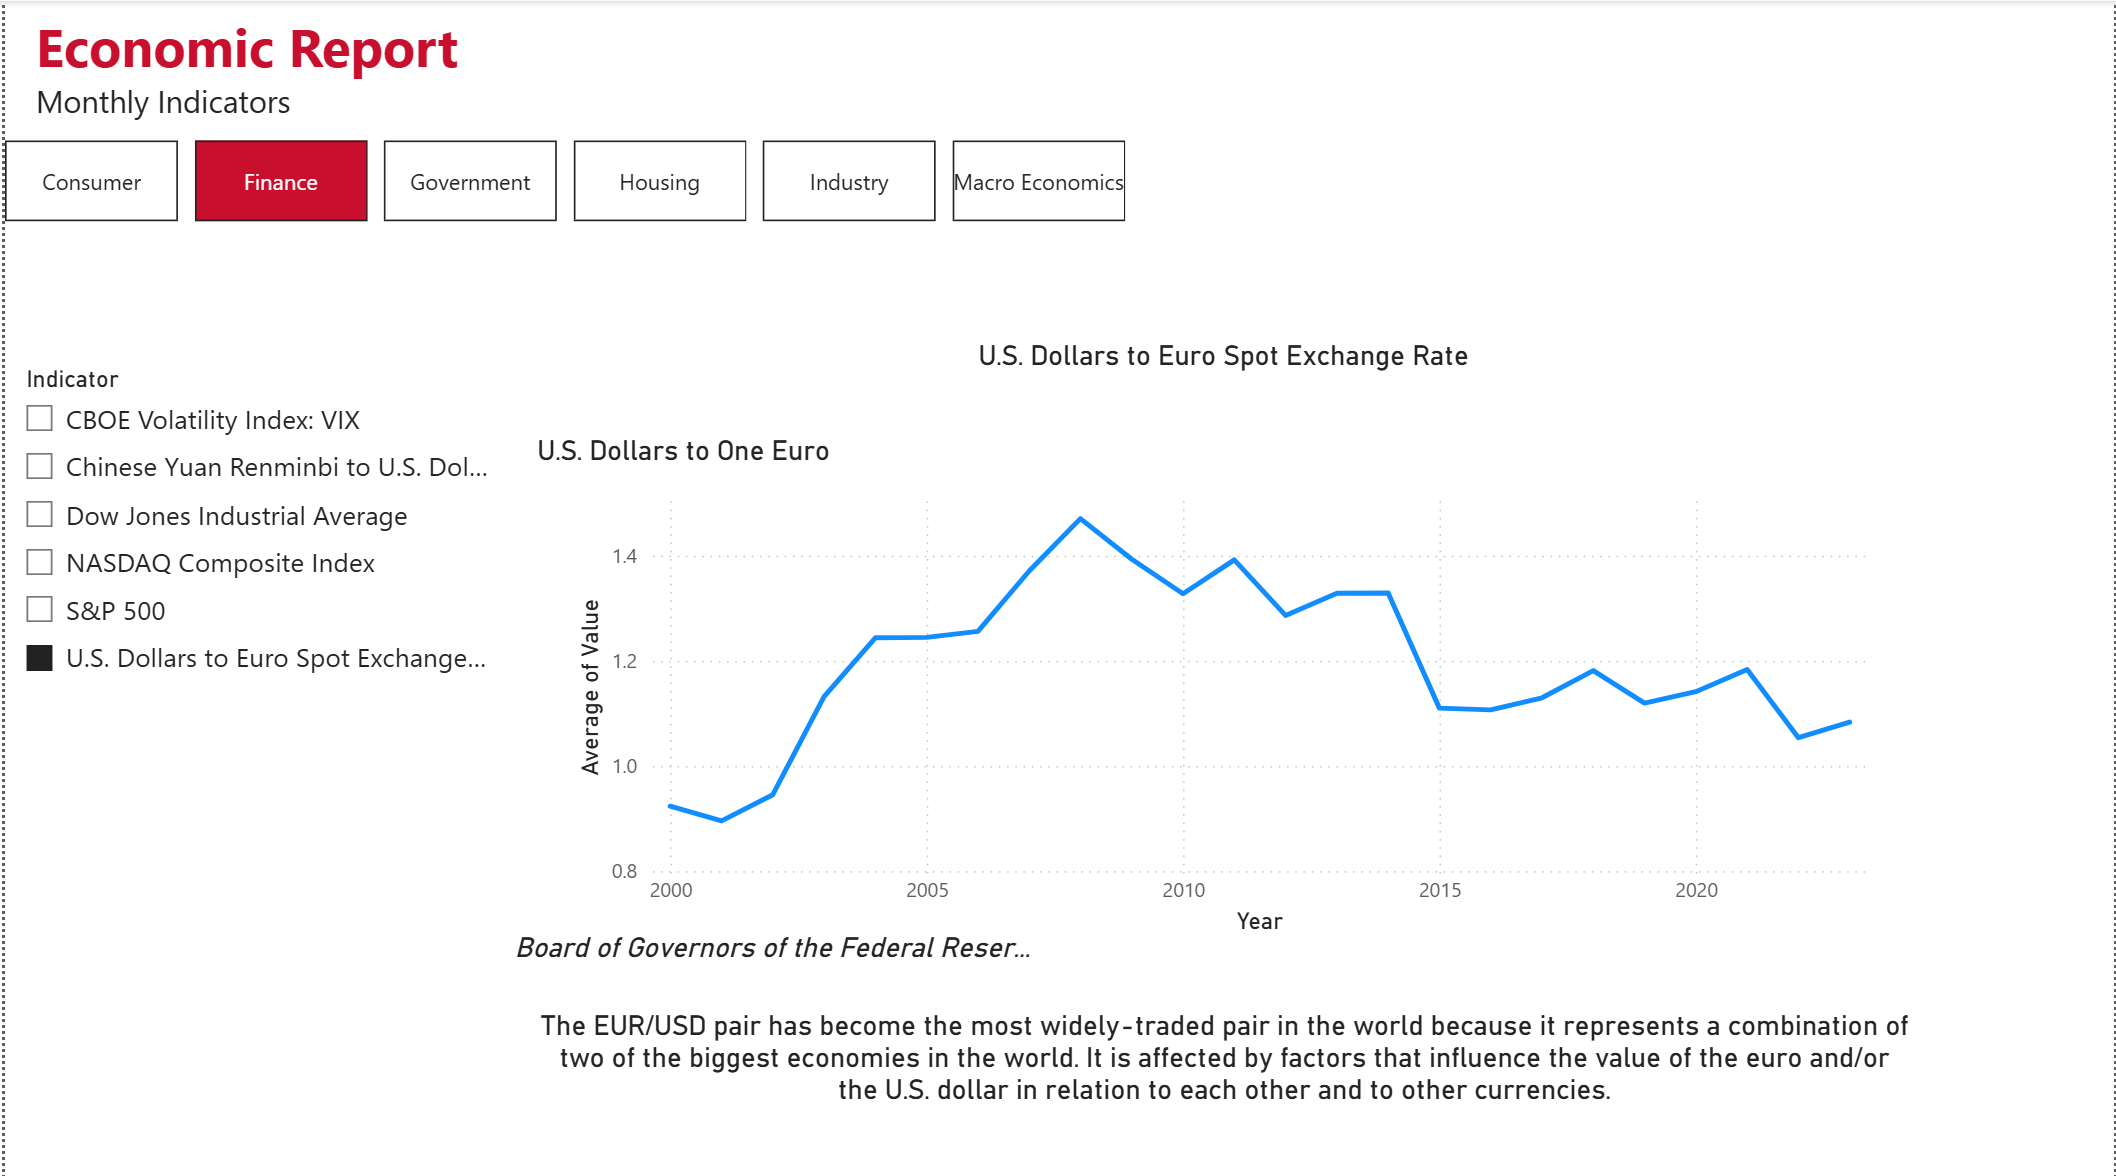

The page's visual inventory and layout, read from the dashboard file:
{"tool":"powerbi","page":{"name":"Finance","canvas":[1280,720],"ordinal":1},"visuals":[{"type":"lineChart","fields":{"Category":["Complete Data.Date.Variation.Date Hierarchy.Year","Complete Data.Date.Variation.Date Hierarchy.Quarter","Complete Data.Date.Variation.Date Hierarchy.Month","Complete Data.Date.Variation.Date Hierarchy.Day"],"Y":["Avg(Complete Data.Value)"]},"box":[341.8,290.8,796,280.4],"z":0},{"type":"slicer","fields":{"Values":["Complete Data.Indicator"]},"box":[0,215.5,300.1,504],"z":1000},{"type":"textbox","box":[13.9,0,796,84.6],"z":2000},{"type":"image","box":[1052.1,0,228.3,149.5],"z":3000},{"type":"pageNavigator","box":[0,84.6,683.7,49.8],"z":4000},{"type":"card","fields":{"Values":["Min(Complete Data.Footnote)"]},"box":[318.7,575.9,842.4,130.9],"z":5000},{"type":"card","fields":{"Values":["Min(Complete Data.Indicator)"]},"box":[448.4,157.6,582.8,115.9],"z":6000},{"type":"card","fields":{"Values":["Min(Complete Data.UOM)"]},"box":[303.6,254.9,216.7,35.9],"z":7000},{"type":"card","fields":{"Values":["Min(Complete Data.Source)"]},"box":[303.6,560.8,324.4,27.8],"z":8000}]}

Visuals, with their boxes in screenshot pixels (x1, y1, x2, y2), scaled from the page's 1280x720 canvas onto the 2116x1176 screenshot:
lineChart - Complete Data.Date.Variation.Date Hierarchy.Year x Complete Data.Date.Variation.Date Hierarchy.Quarter: (x1=565, y1=475, x2=1881, y2=933)
slicer - Complete Data.Indicator: (x1=0, y1=352, x2=496, y2=1175)
textbox: (x1=23, y1=0, x2=1339, y2=138)
image: (x1=1739, y1=0, x2=2115, y2=244)
pageNavigator: (x1=0, y1=138, x2=1130, y2=220)
card - Min(Complete Data.Footnote): (x1=527, y1=941, x2=1919, y2=1154)
card - Min(Complete Data.Indicator): (x1=741, y1=257, x2=1705, y2=447)
card - Min(Complete Data.UOM): (x1=502, y1=416, x2=860, y2=475)
card - Min(Complete Data.Source): (x1=502, y1=916, x2=1038, y2=961)
